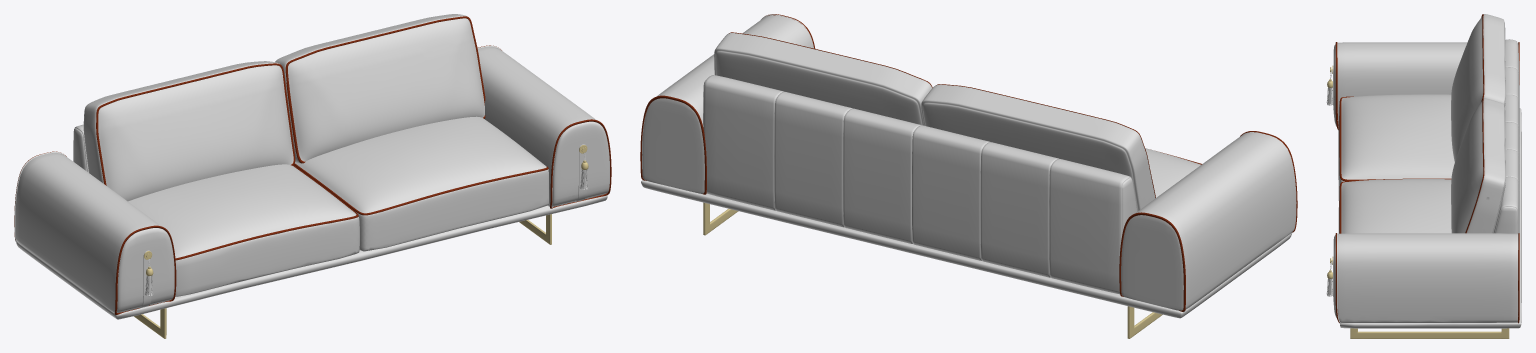
Rendered from SLN_Kimberly.glb.
The picture shows the model from 3 angles, left to right: view 1: azimuth 30°, elevation 25°; view 2: azimuth 150°, elevation 25°; view 3: azimuth 270°, elevation 25°; orthographic projection. The views are drawn at different scales.
Parts seen in each view (by area): view 1: Kimberly, Kimberly.001, Kimberly.002; view 2: Kimberly, Kimberly.002, Kimberly.001; view 3: Kimberly.002, Kimberly, Kimberly.001.
Boxes of the visible parts, left/top/right/bottom form: Kimberly: left=16, top=116, right=607, bottom=338; Kimberly.001: left=83, top=14, right=485, bottom=201; Kimberly.002: left=14, top=45, right=611, bottom=314; Kimberly: left=641, top=75, right=1291, bottom=338; Kimberly.002: left=640, top=14, right=1297, bottom=312; Kimberly.001: left=714, top=32, right=1155, bottom=211; Kimberly.002: left=1333, top=42, right=1519, bottom=323; Kimberly: left=1326, top=39, right=1521, bottom=338; Kimberly.001: left=1451, top=14, right=1505, bottom=233.
Bounding box in the file's own units: 2.57 × 0.8928 × 0.9777.
